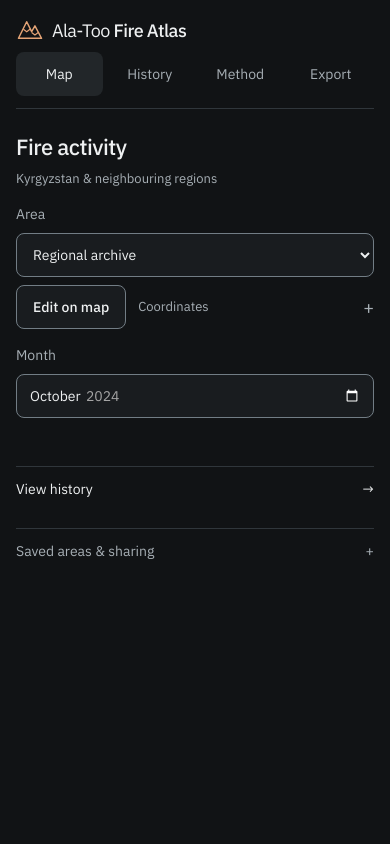
it: workspace navigation and selection › lets the user close the editor without changing their selection
Click the button "Edit on map" at point(71, 307), box x1=16 y1=285 x2=126 y2=329
(page scrolled)
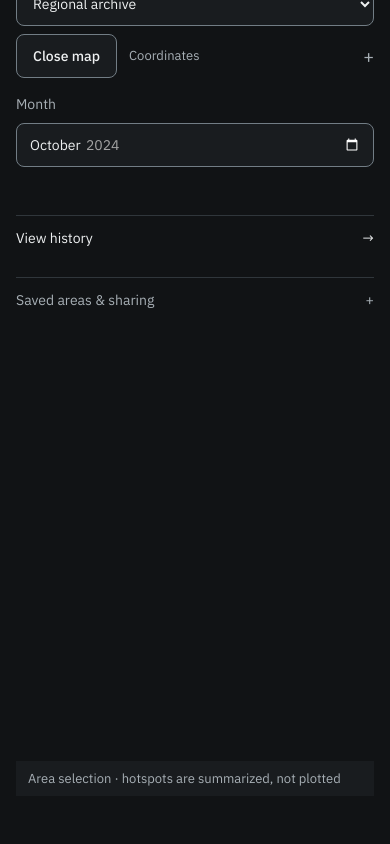
expect the button "Close map" is shown: met
Click the button "Close map" at point(66, 56), box x1=16 y1=34 x2=117 y2=78
(page scrolled)
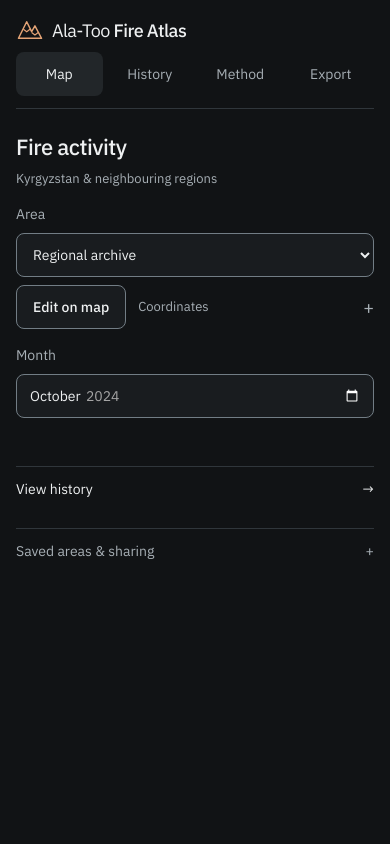
expect the button "Edit on map" is shown: met, box x1=16 y1=285 x2=126 y2=329
